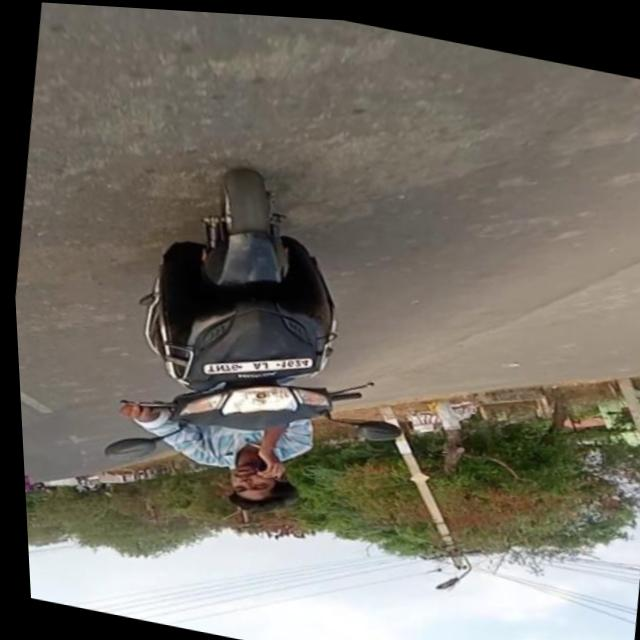USING_MOBILE: (239, 417, 306, 489)
